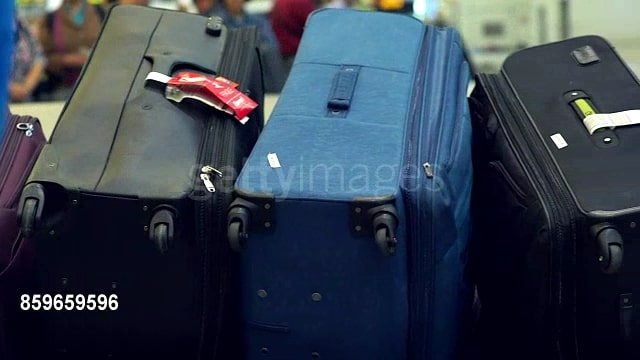baggage: (25, 3, 267, 360), (236, 2, 473, 360), (469, 34, 640, 357)
